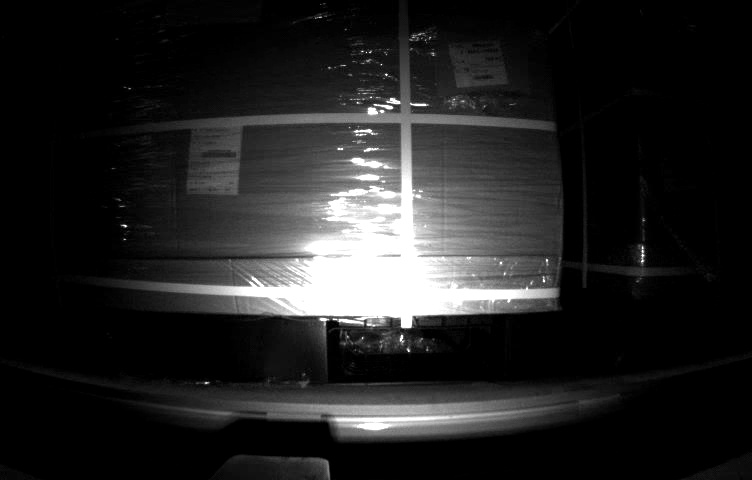True Barcode: (448, 38, 509, 88)
